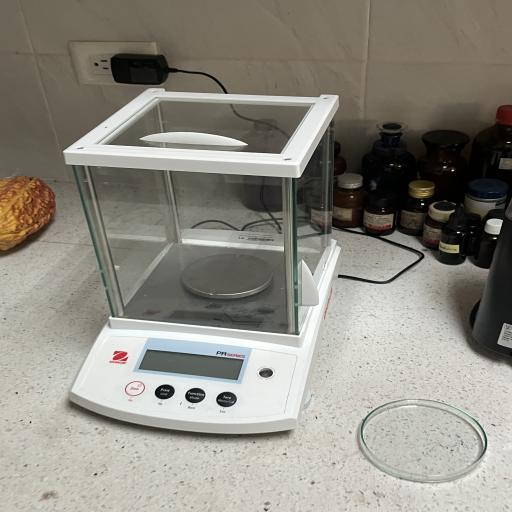Balanza_Analitica_Ohaus: (51, 77, 385, 449)
